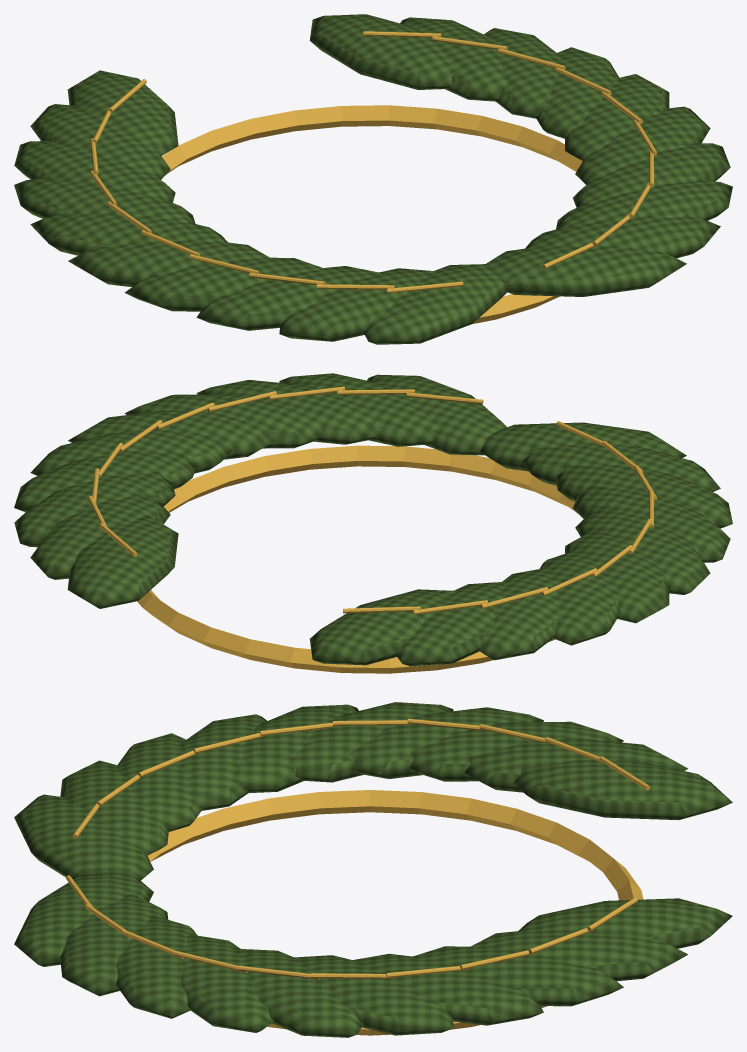
The model's file is competition_laurels.glb.
3 views of the same model, one above another, from view 1: azimuth 30°, elevation 25°; view 2: azimuth 150°, elevation 25°; view 3: azimuth 270°, elevation 25° (orthographic). The views are drawn at different scales.
Parts seen in each view (by area): view 1: stem, laurel_leaf.010, laurel_leaf.019, laurel_leaf, laurel_leaf.001, laurel_leaf.002, laurel_leaf.003, laurel_leaf.009, laurel_leaf.004, laurel_leaf.011, laurel_leaf.005, laurel_leaf.006 (+9 smaller); view 2: stem, laurel_leaf.019, laurel_leaf.009, laurel_leaf.008, laurel_leaf.007, laurel_leaf.006, laurel_leaf.010, laurel_leaf.005, laurel_leaf.018, laurel_leaf.004, laurel_leaf, laurel_leaf.003 (+9 smaller); view 3: stem, laurel_leaf.009, laurel_leaf, laurel_leaf.019, laurel_leaf.015, laurel_leaf.016, laurel_leaf.017, laurel_leaf.014, laurel_leaf.018, laurel_leaf.013, laurel_leaf.010, laurel_leaf.012 (+9 smaller).
Boxes of the visible parts, x1=… form: stem: x1=162, y1=105, x2=582, y2=323; laurel_leaf.010: x1=486, y1=245, x2=686, y2=296; laurel_leaf.019: x1=309, y1=14, x2=457, y2=89; laurel_leaf: x1=363, y1=264, x2=509, y2=344; laurel_leaf.001: x1=279, y1=268, x2=437, y2=341; laurel_leaf.002: x1=196, y1=266, x2=381, y2=330; laurel_leaf.003: x1=124, y1=257, x2=324, y2=311; laurel_leaf.009: x1=67, y1=70, x2=178, y2=156; laurel_leaf.004: x1=68, y1=240, x2=271, y2=286; laurel_leaf.011: x1=525, y1=216, x2=720, y2=258; laurel_leaf.005: x1=30, y1=213, x2=227, y2=255; laurel_leaf.006: x1=14, y1=177, x2=195, y2=223; stem: x1=137, y1=445, x2=576, y2=673; laurel_leaf.019: x1=67, y1=515, x2=178, y2=608; laurel_leaf.009: x1=309, y1=589, x2=457, y2=665; laurel_leaf.008: x1=395, y1=581, x2=507, y2=666; laurel_leaf.007: x1=477, y1=567, x2=560, y2=660; laurel_leaf.006: x1=539, y1=549, x2=620, y2=645; laurel_leaf.010: x1=367, y1=374, x2=506, y2=455; laurel_leaf.005: x1=565, y1=528, x2=669, y2=623; laurel_leaf.018: x1=30, y1=493, x2=170, y2=579; laurel_leaf.004: x1=575, y1=507, x2=710, y2=594; laurel_leaf: x1=480, y1=422, x2=686, y2=471; laurel_leaf.003: x1=572, y1=485, x2=730, y2=562; stem: x1=147, y1=790, x2=643, y2=1035; laurel_leaf.009: x1=513, y1=759, x2=732, y2=820; laurel_leaf: x1=14, y1=794, x2=153, y2=880; laurel_leaf.019: x1=518, y1=898, x2=732, y2=948; laurel_leaf.015: x1=290, y1=955, x2=453, y2=1035; laurel_leaf.016: x1=350, y1=953, x2=543, y2=1025; laurel_leaf.017: x1=411, y1=946, x2=623, y2=1006; laurel_leaf.014: x1=234, y1=948, x2=363, y2=1037; laurel_leaf.018: x1=469, y1=929, x2=687, y2=981; laurel_leaf.013: x1=181, y1=934, x2=273, y2=1032; laurel_leaf.010: x1=14, y1=871, x2=153, y2=966; laurel_leaf.012: x1=116, y1=915, x2=197, y2=1018.
Size of the model in its own units: 0.8781 by 0.108 by 0.8163.
Materials: 2 (1 with a texture image).
